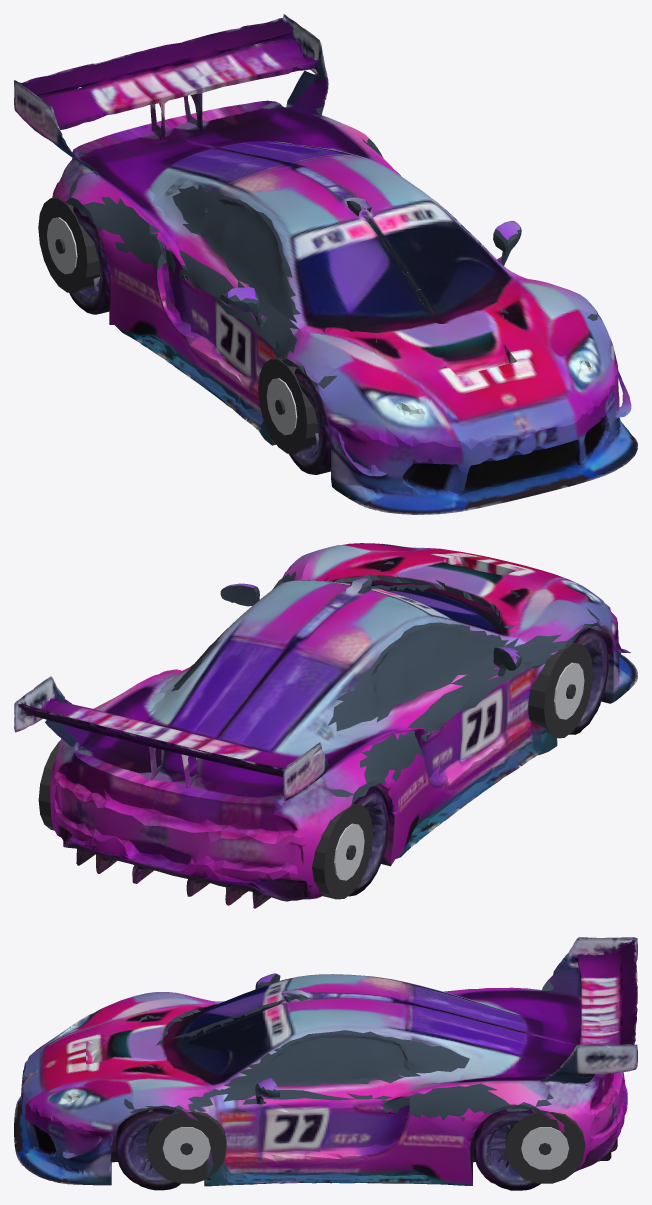
3 renders of one model, top to bottom at view 1: azimuth 30°, elevation 25°; view 2: azimuth 150°, elevation 25°; view 3: azimuth 270°, elevation 25°, orthographic. The views are drawn at different scales.
Parts seen in each view (by area): view 1: panel_trunk, panel_hood, panel_bumper_f, panel_roof, susp_front_L, glass_panel_roof, glass_panel_trunk, susp_rear_L, panel_door_L, wheel_rear_L, wheel_front_L, glass_panel_door_L (+5 smaller); view 2: panel_trunk, panel_hood, panel_roof, panel_bumper_r, susp_rear_L, susp_front_L, glass_panel_roof, glass_panel_trunk, susp_rear_R, wheel_front_L, glass_panel_hood, wheel_rear_L (+6 smaller); view 3: panel_trunk, panel_hood, susp_front_R, panel_roof, panel_bumper_f, susp_rear_R, glass_panel_roof, panel_door_R, glass_panel_trunk, wheel_front_R, wheel_rear_R, panel_bumper_r (+4 smaller).
Boxes of the visible parts, <box> form: panel_trunk: <box>14,14,401,339</box>; panel_hood: <box>254,234,600,445</box>; panel_bumper_f: <box>280,319,637,514</box>; panel_roof: <box>175,153,520,314</box>; susp_front_L: <box>170,251,467,510</box>; glass_panel_roof: <box>189,190,521,315</box>; glass_panel_trunk: <box>65,99,383,267</box>; susp_rear_L: <box>52,159,213,394</box>; panel_door_L: <box>147,239,266,412</box>; wheel_rear_L: <box>38,196,100,292</box>; wheel_front_L: <box>258,357,319,453</box>; glass_panel_door_L: <box>153,246,278,334</box>; panel_trunk: <box>14,636,426,858</box>; panel_hood: <box>283,543,600,750</box>; panel_roof: <box>170,577,519,729</box>; panel_bumper_r: <box>52,765,400,905</box>; susp_rear_L: <box>200,765,482,908</box>; susp_front_L: <box>414,600,637,797</box>; glass_panel_roof: <box>201,579,521,716</box>; glass_panel_trunk: <box>171,642,421,803</box>; susp_rear_R: <box>50,739,131,865</box>; wheel_front_L: <box>528,643,592,738</box>; glass_panel_hood: <box>281,561,600,678</box>; wheel_rear_L: <box>312,804,373,899</box>; panel_trunk: <box>405,937,637,1185</box>; panel_hood: <box>69,990,256,1182</box>; susp_front_R: <box>32,1094,390,1190</box>; panel_roof: <box>246,973,421,1098</box>; panel_bumper_f: <box>14,1013,199,1184</box>; susp_rear_R: <box>231,1080,622,1190</box>; glass_panel_roof: <box>242,974,418,1097</box>; panel_door_R: <box>246,1084,417,1183</box>; glass_panel_trunk: <box>405,981,553,1120</box>; wheel_front_R: <box>146,1111,226,1183</box>; wheel_rear_R: <box>505,1111,585,1183</box>; panel_bumper_r: <box>459,1072,627,1185</box>.
Bounding box in the file's own units: 1.79 × 1.02 × 4.
4 materials, 1 textured.
